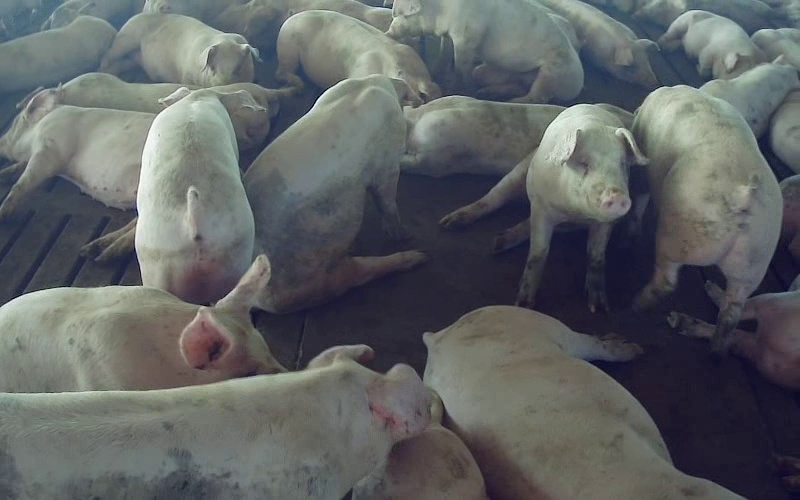pig: (0, 345, 429, 499), (424, 306, 742, 499), (243, 75, 425, 312), (441, 104, 646, 308), (630, 86, 781, 353), (0, 255, 284, 391), (135, 88, 262, 303), (388, 0, 583, 102), (276, 10, 440, 102), (400, 96, 563, 176), (100, 12, 258, 86), (539, 0, 658, 86), (699, 62, 799, 137), (658, 10, 765, 78)
